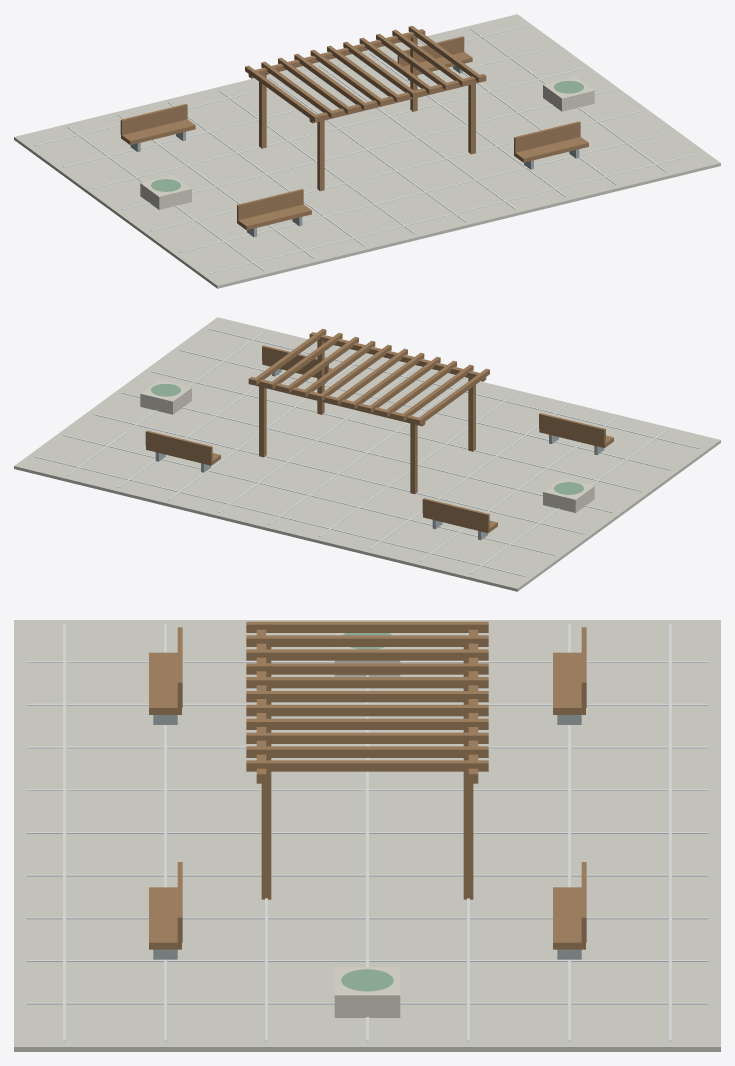
3 renders of one model, top to bottom at view 1: azimuth 30°, elevation 25°; view 2: azimuth 150°, elevation 25°; view 3: azimuth 270°, elevation 25°, orthographic. The views are drawn at different scales.
Parts seen in each view (by area): view 1: kamome-plaza; view 2: kamome-plaza; view 3: kamome-plaza.
Boxes of the visible parts, x1,y1,x2,y2 form: kamome-plaza: (14,14,720,288); kamome-plaza: (14,317,720,591); kamome-plaza: (14,620,720,1051).
Size of the model in its own units: 20 by 3.12 by 14.
